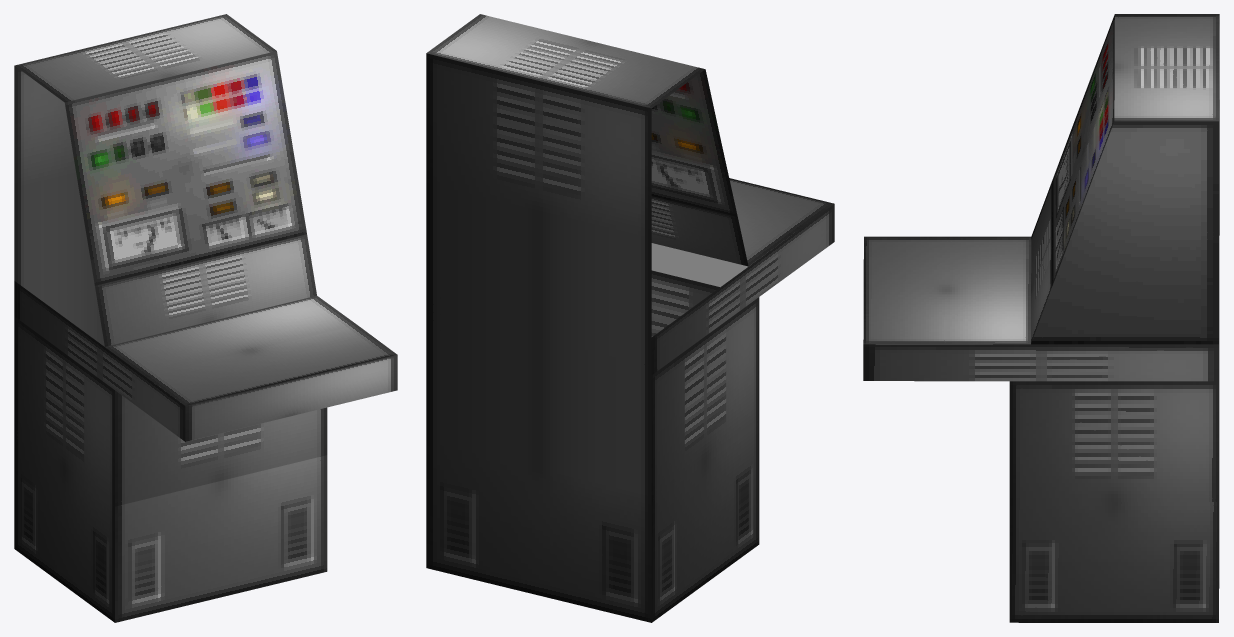
Rendered from primary_204.glb.
3 views of the same model, side by side, from view 1: azimuth 30°, elevation 25°; view 2: azimuth 150°, elevation 25°; view 3: azimuth 270°, elevation 25° (orthographic). The views are drawn at different scales.
Parts seen in each view (by area): view 1: Object; view 2: Object; view 3: Object.
Part boxes in pixels (x1,y1,x2,y2): Object: (14,14,397,622); Object: (426,14,834,622); Object: (863,14,1219,622).
Bounding box in the file's own units: 0.8197 × 1.78 × 1.15.
20 materials, 20 textured.
